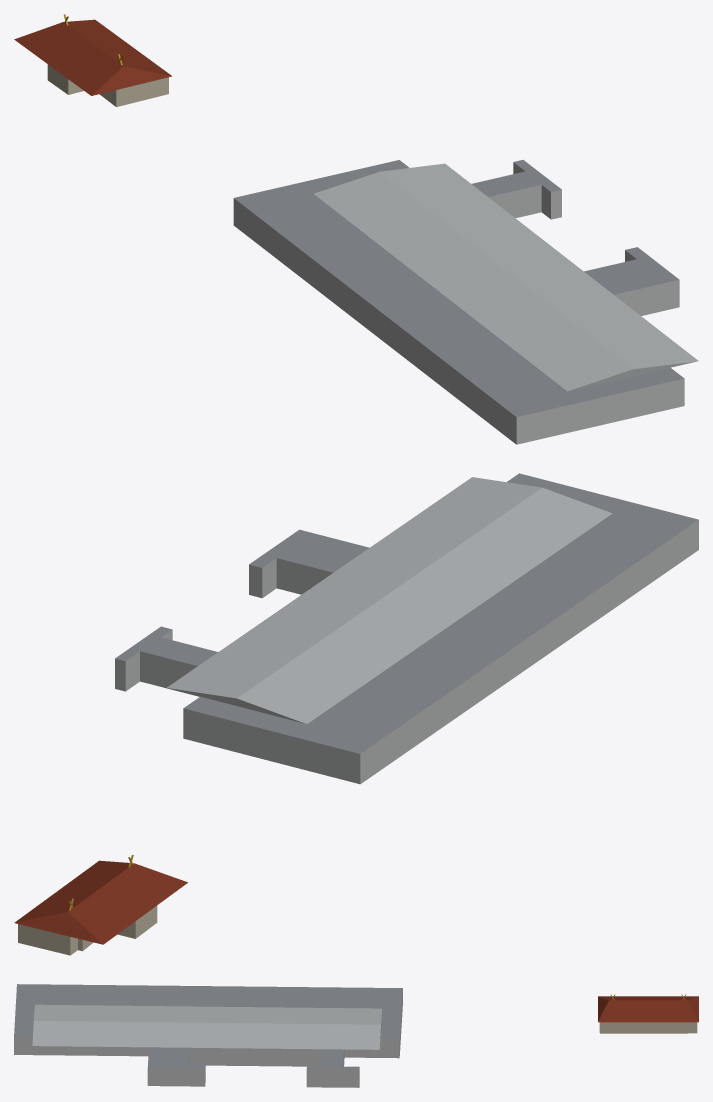
Rendered from bandara-terminal-lod1.glb.
The picture shows the model from 3 angles, top to bottom: view 1: azimuth 30°, elevation 25°; view 2: azimuth 150°, elevation 25°; view 3: azimuth 270°, elevation 25°; orthographic projection. The views are drawn at different scales.
Parts seen in each view (by area): view 1: bandara-terminal_LOD1; view 2: bandara-terminal_LOD1; view 3: bandara-terminal_LOD1.
Boxes of the visible parts, left/top/right/bottom form: bandara-terminal_LOD1: left=14, top=14, right=698, bottom=444; bandara-terminal_LOD1: left=14, top=473, right=698, bottom=955; bandara-terminal_LOD1: left=14, top=984, right=698, bottom=1087.
Bounding box in the file's own units: 122 × 17.84 × 414.
